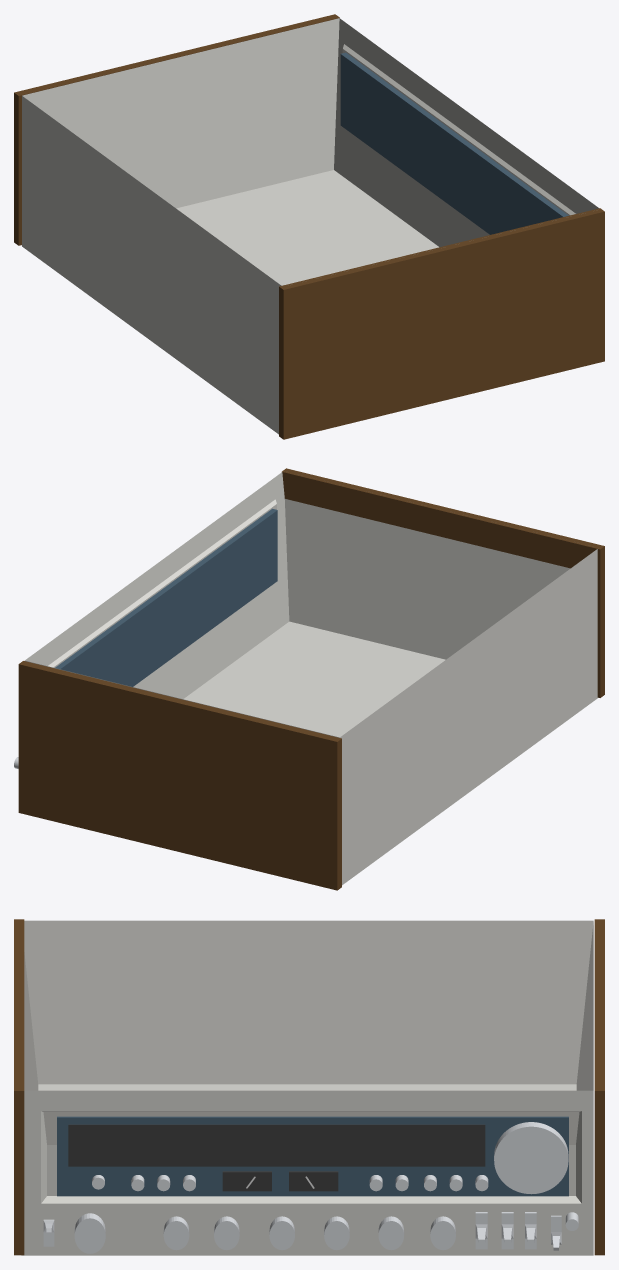
File: Kenwood9400v0.glb
3 renders of one model, top to bottom at view 1: azimuth 30°, elevation 25°; view 2: azimuth 150°, elevation 25°; view 3: azimuth 270°, elevation 25°, orthographic. The views are drawn at different scales.
Visible parts, largest first — view 1: Cube, Cube.003, radio-faceplate, Cube.004; view 2: Cube, Cube.004, radio-faceplate, Cube.003; view 3: Cube, radio-panel, radio-faceplate, tuning-dial, Cube.003, Cube.004, speaker-control, radio-panel-3, radio-panel-3.001, bass, volume, input-selector (+6 smaller).
Boxes of the visible parts, x1,y1,x2,y2 form: Cube: [22, 18, 598, 434]; Cube.003: [279, 208, 604, 439]; radio-faceplate: [340, 52, 568, 234]; Cube.004: [14, 14, 339, 245]; Cube: [24, 472, 597, 885]; Cube.004: [18, 661, 341, 890]; radio-faceplate: [55, 508, 277, 686]; Cube.003: [282, 468, 604, 697]; Cube: [21, 920, 593, 1255]; radio-panel: [68, 1124, 485, 1166]; radio-faceplate: [57, 1116, 568, 1196]; tuning-dial: [494, 1122, 568, 1194]; Cube.003: [14, 919, 24, 1255]; Cube.004: [594, 919, 604, 1255]; speaker-control: [74, 1213, 105, 1253]; radio-panel-3: [289, 1171, 338, 1191]; radio-panel-3.001: [222, 1171, 271, 1191]; bass: [163, 1216, 189, 1250]; volume: [378, 1216, 404, 1250]; input-selector: [430, 1216, 455, 1250].
Bounding box in the file's own units: 35.16 × 14.82 × 48.04.
